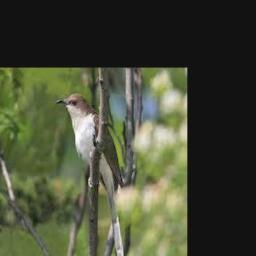Cuckoo: (56, 93, 125, 256)
